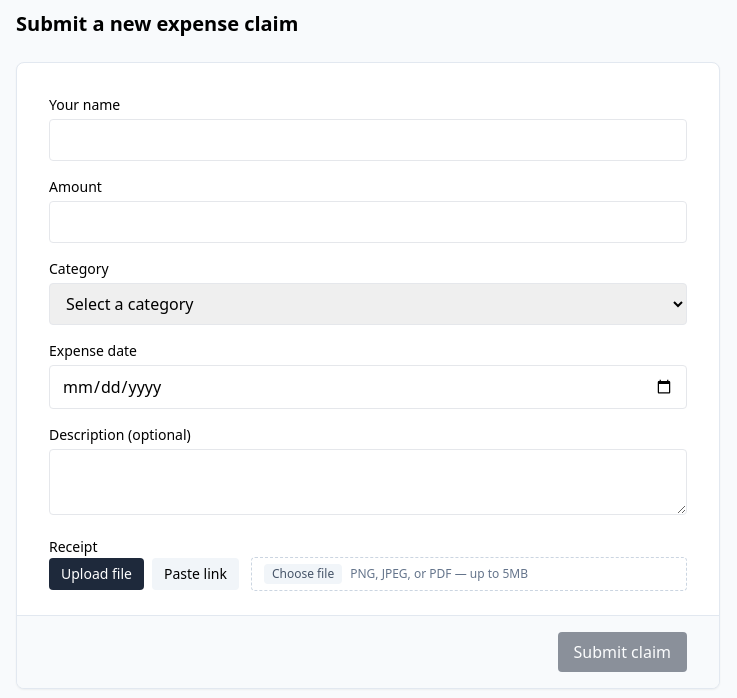
New claim submission — network/server failure handling › shows a distinct error, preserves field values, and retries successfully
The image size is (737, 698).
Type "Jane Employee" into the field labelled "Your name".
click(368, 140); type("Jane Employee")  # box 49,119 -> 687,161
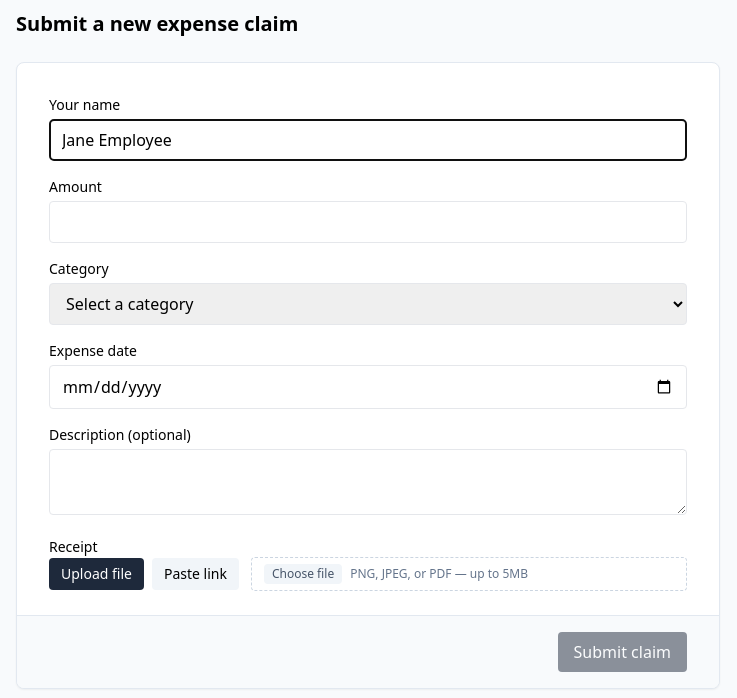
Type "20" into the field labelled "Amount".
click(368, 222); type("20")  # box 49,201 -> 687,243
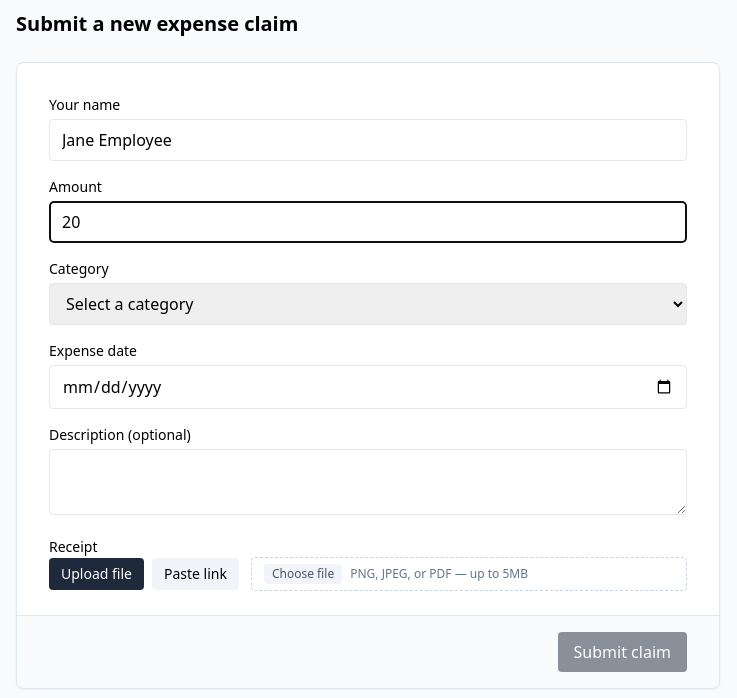
Select "meals" in the dropdown labelled "Category" at [368, 304], box 49,283 -> 687,325
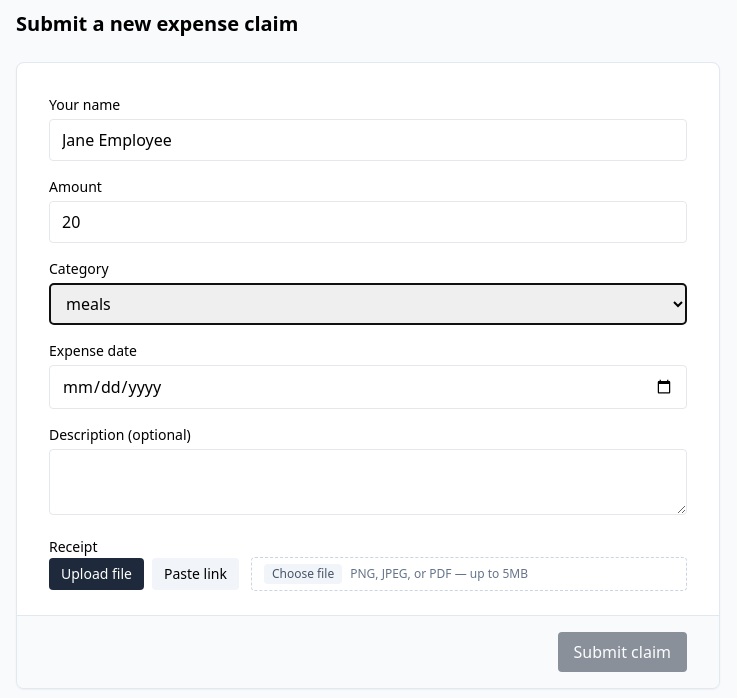
Type "2026-01-01" into the date field labelled "Expense date".
click(368, 387); type("2026-01-01")  # box 49,365 -> 687,409
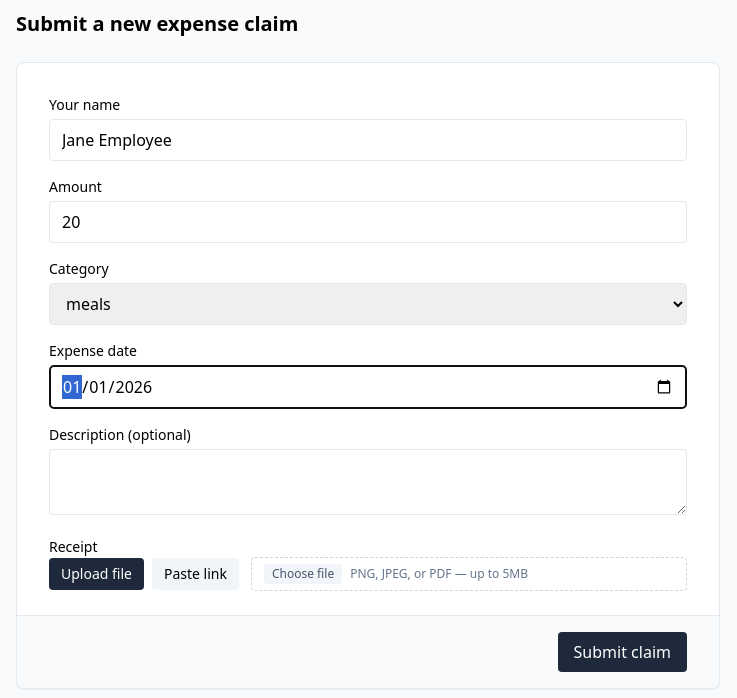
Click the button "Submit claim".
click(622, 652)  # box 558,632 -> 687,672
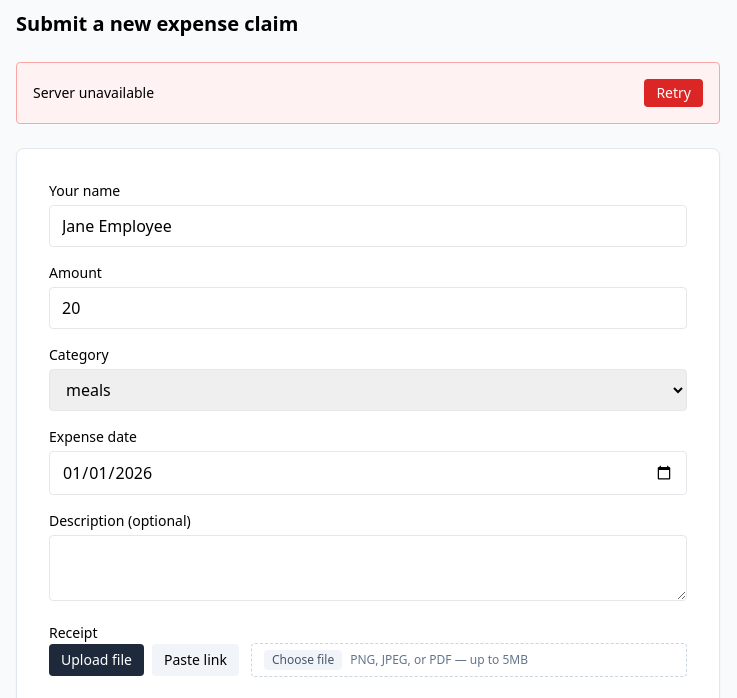
Check: the message shows "Server unavailable", box 33,83 -> 154,102
Click the button "Retry".
click(674, 93)  # box 644,79 -> 703,107
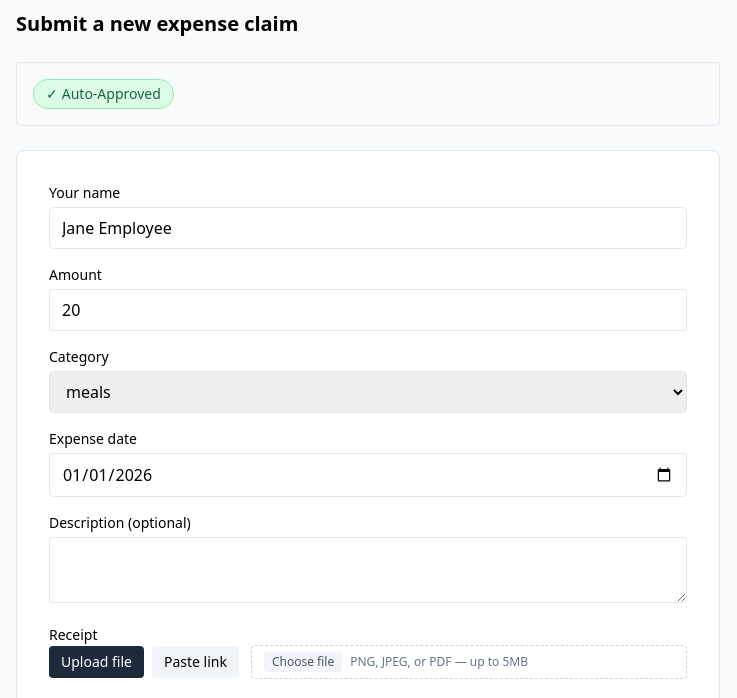
Check: the message shows "Auto-Approved", box 62,84 -> 161,103
